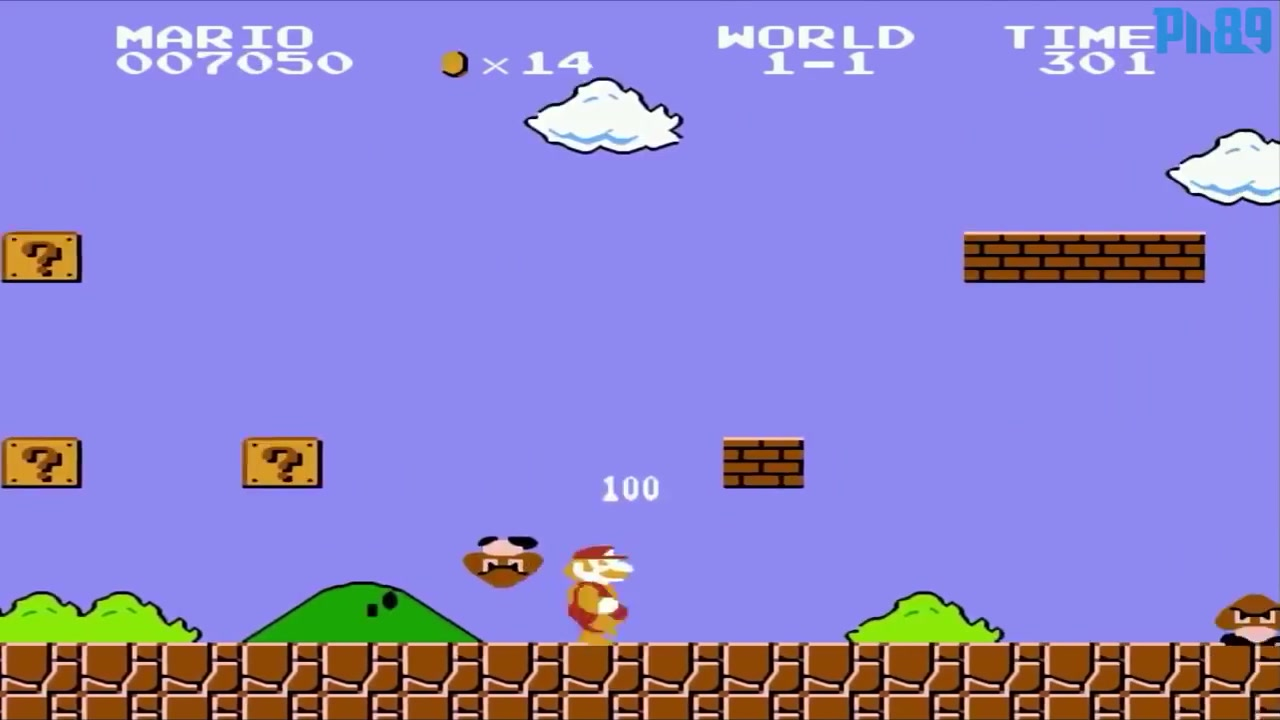mario: (555, 538, 637, 642)
